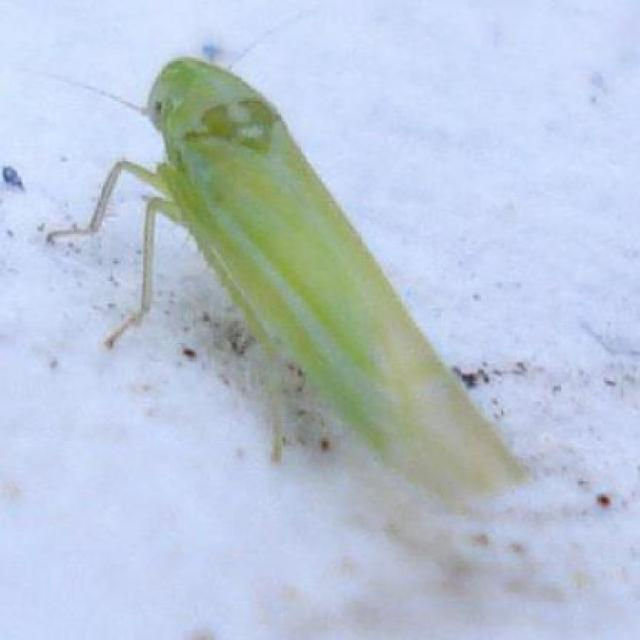green-leafhopper: (124, 49, 530, 522)
